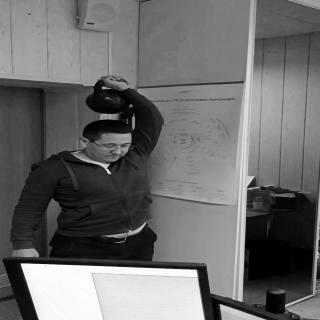kettlebell: (82, 79, 132, 116)
